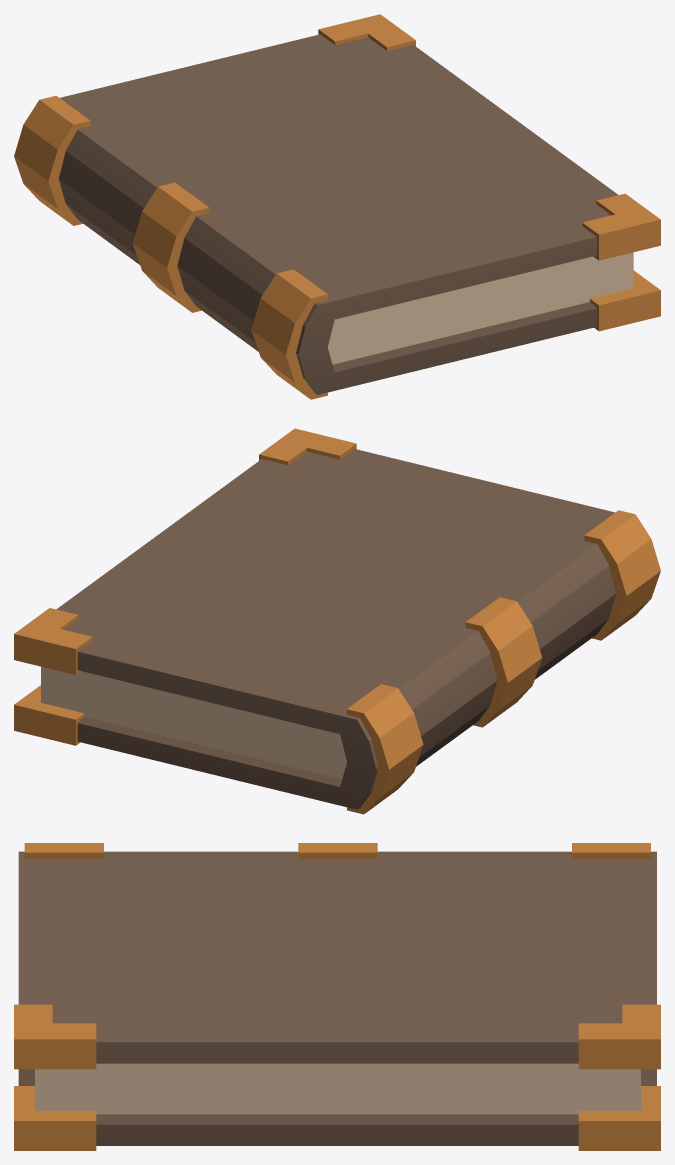
The model's file is Book_08.fbx.
3 views of the same model, one above another, from view 1: azimuth 30°, elevation 25°; view 2: azimuth 150°, elevation 25°; view 3: azimuth 270°, elevation 25° (orthographic). The views are drawn at different scales.
Visible parts, largest first — view 1: Book_08; view 2: Book_08; view 3: Book_08.
Boxes of the visible parts, x1=… form: Book_08: x1=14, y1=14, x2=660, y2=399; Book_08: x1=14, y1=428, x2=660, y2=814; Book_08: x1=14, y1=843, x2=660, y2=1150.
Bounding box in the file's own units: 21.17 × 5.52 × 27.76.
